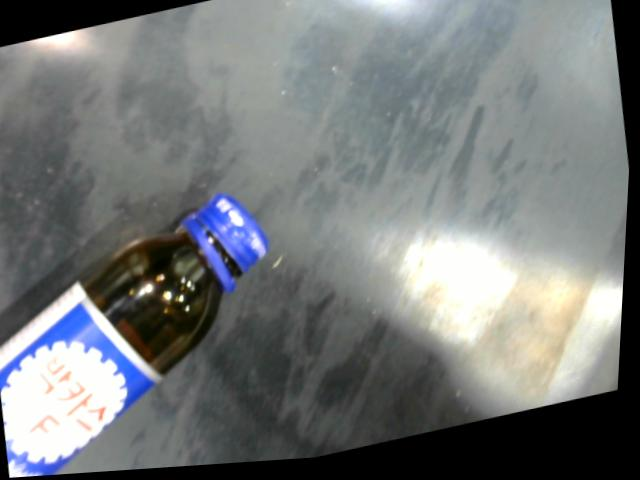glass: (0, 194, 274, 478)
